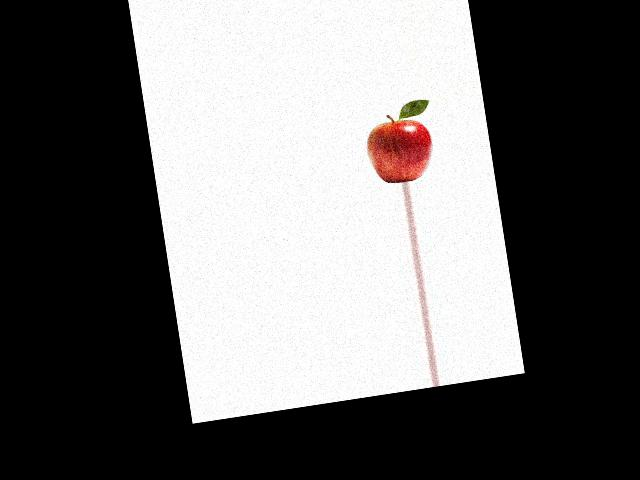apple: (361, 111, 441, 187)
